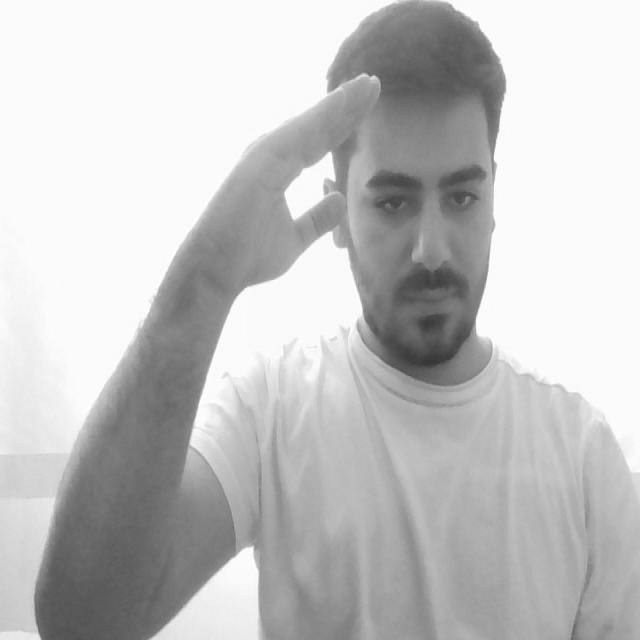Merhaba: (196, 46, 391, 338)
